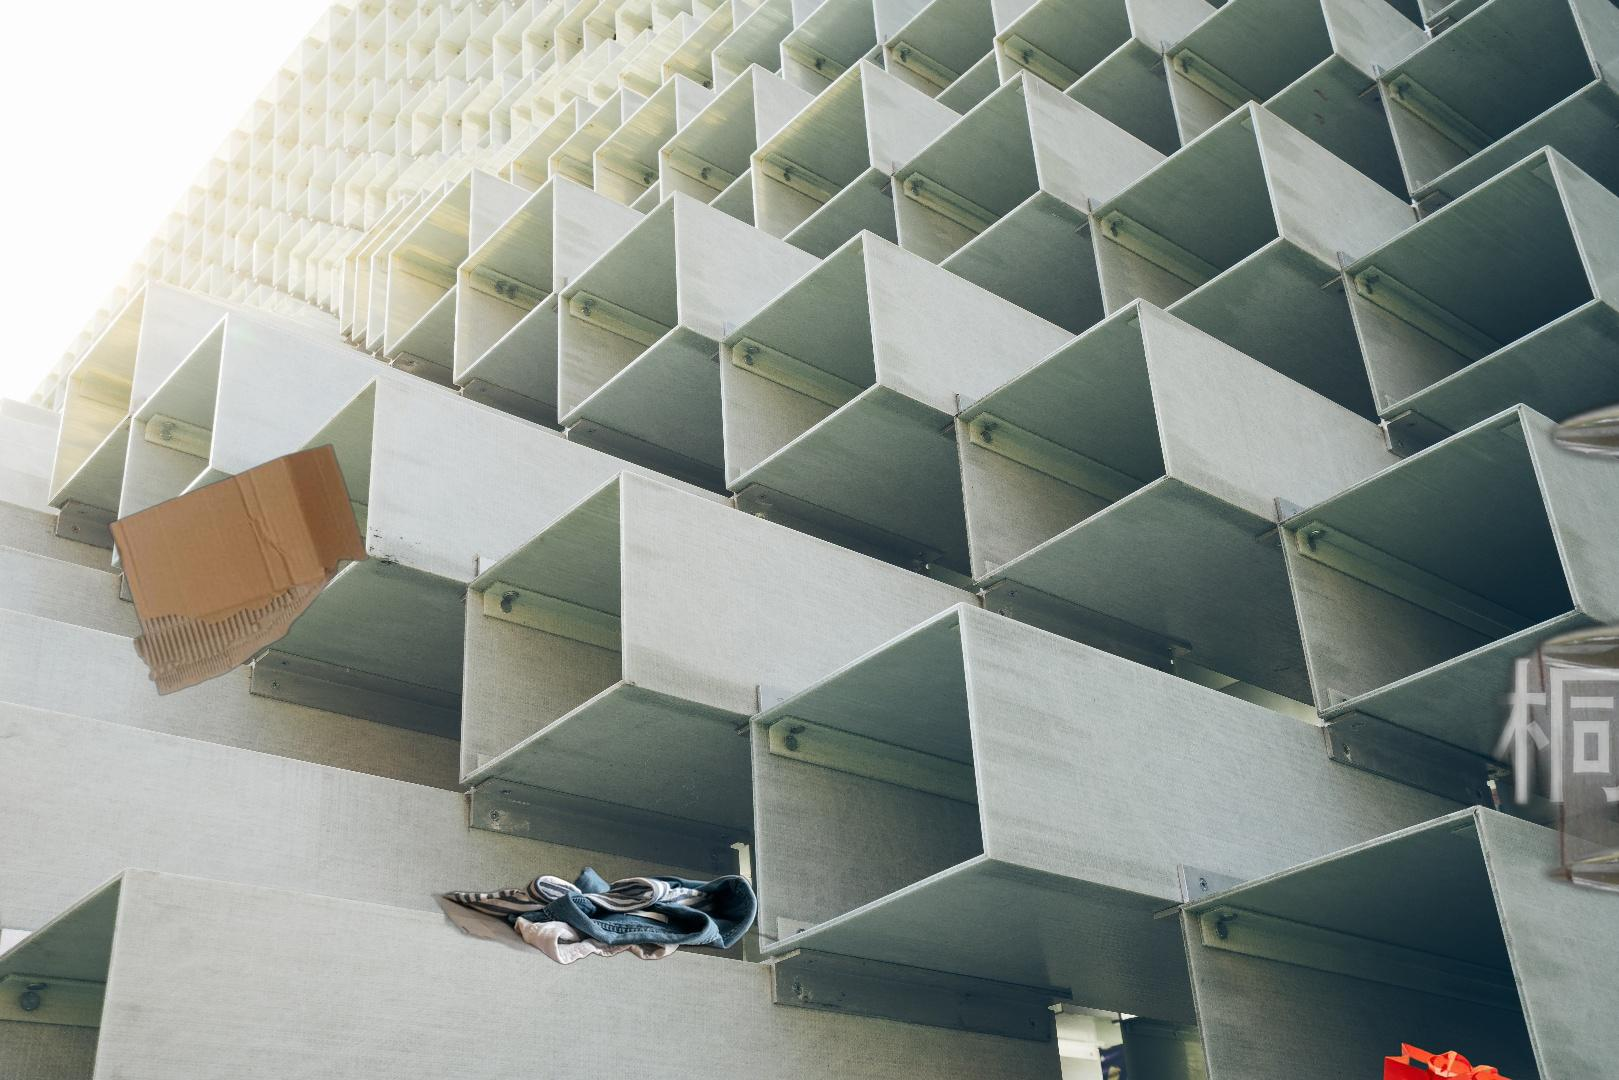paper-bag: (1331, 1040, 1547, 1080)
penholder: (1478, 289, 1619, 943)
trashbox-cardboard: (104, 441, 373, 699), (429, 864, 781, 968)
